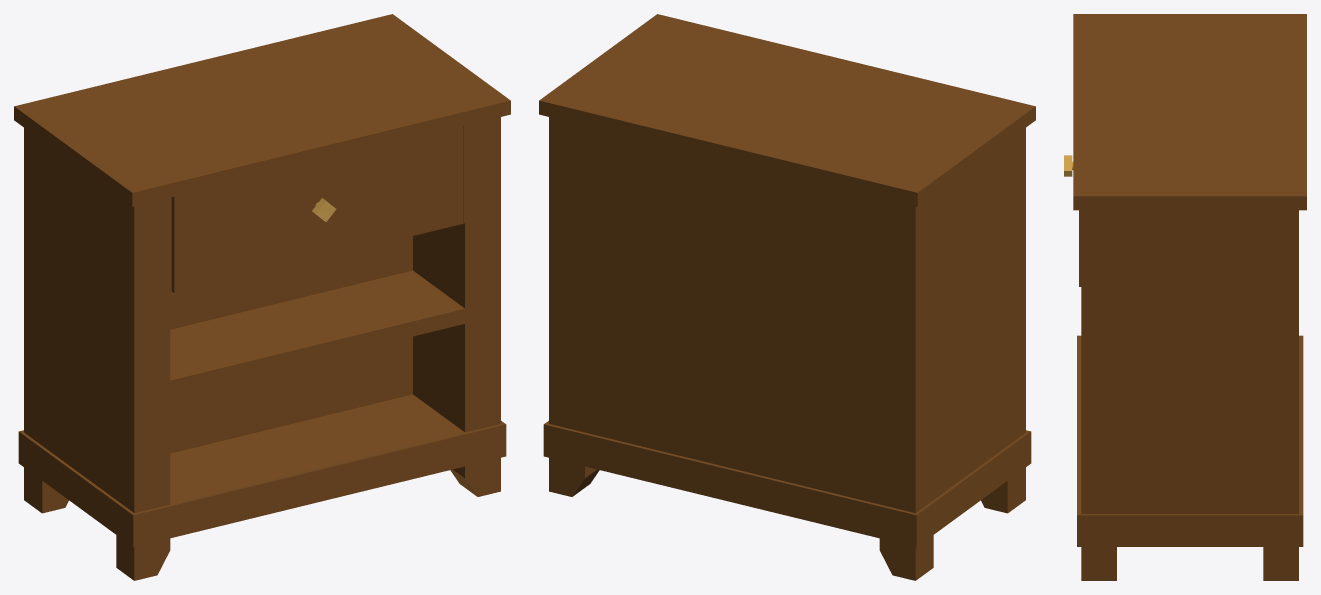
File: classic drawer.fbx
The picture shows the model from 3 angles, left to right: view 1: azimuth 30°, elevation 25°; view 2: azimuth 150°, elevation 25°; view 3: azimuth 270°, elevation 25°; orthographic projection.
Visible parts, largest first — view 1: classic drawer; view 2: classic drawer; view 3: classic drawer.
Part boxes in pixels (bbox=[...]): classic drawer: bbox=[14, 14, 510, 580]; classic drawer: bbox=[539, 14, 1035, 580]; classic drawer: bbox=[1064, 14, 1306, 580].
Bounding box in the file's own units: 63.05 × 62.48 × 35.47.
2 materials, 2 textured.
